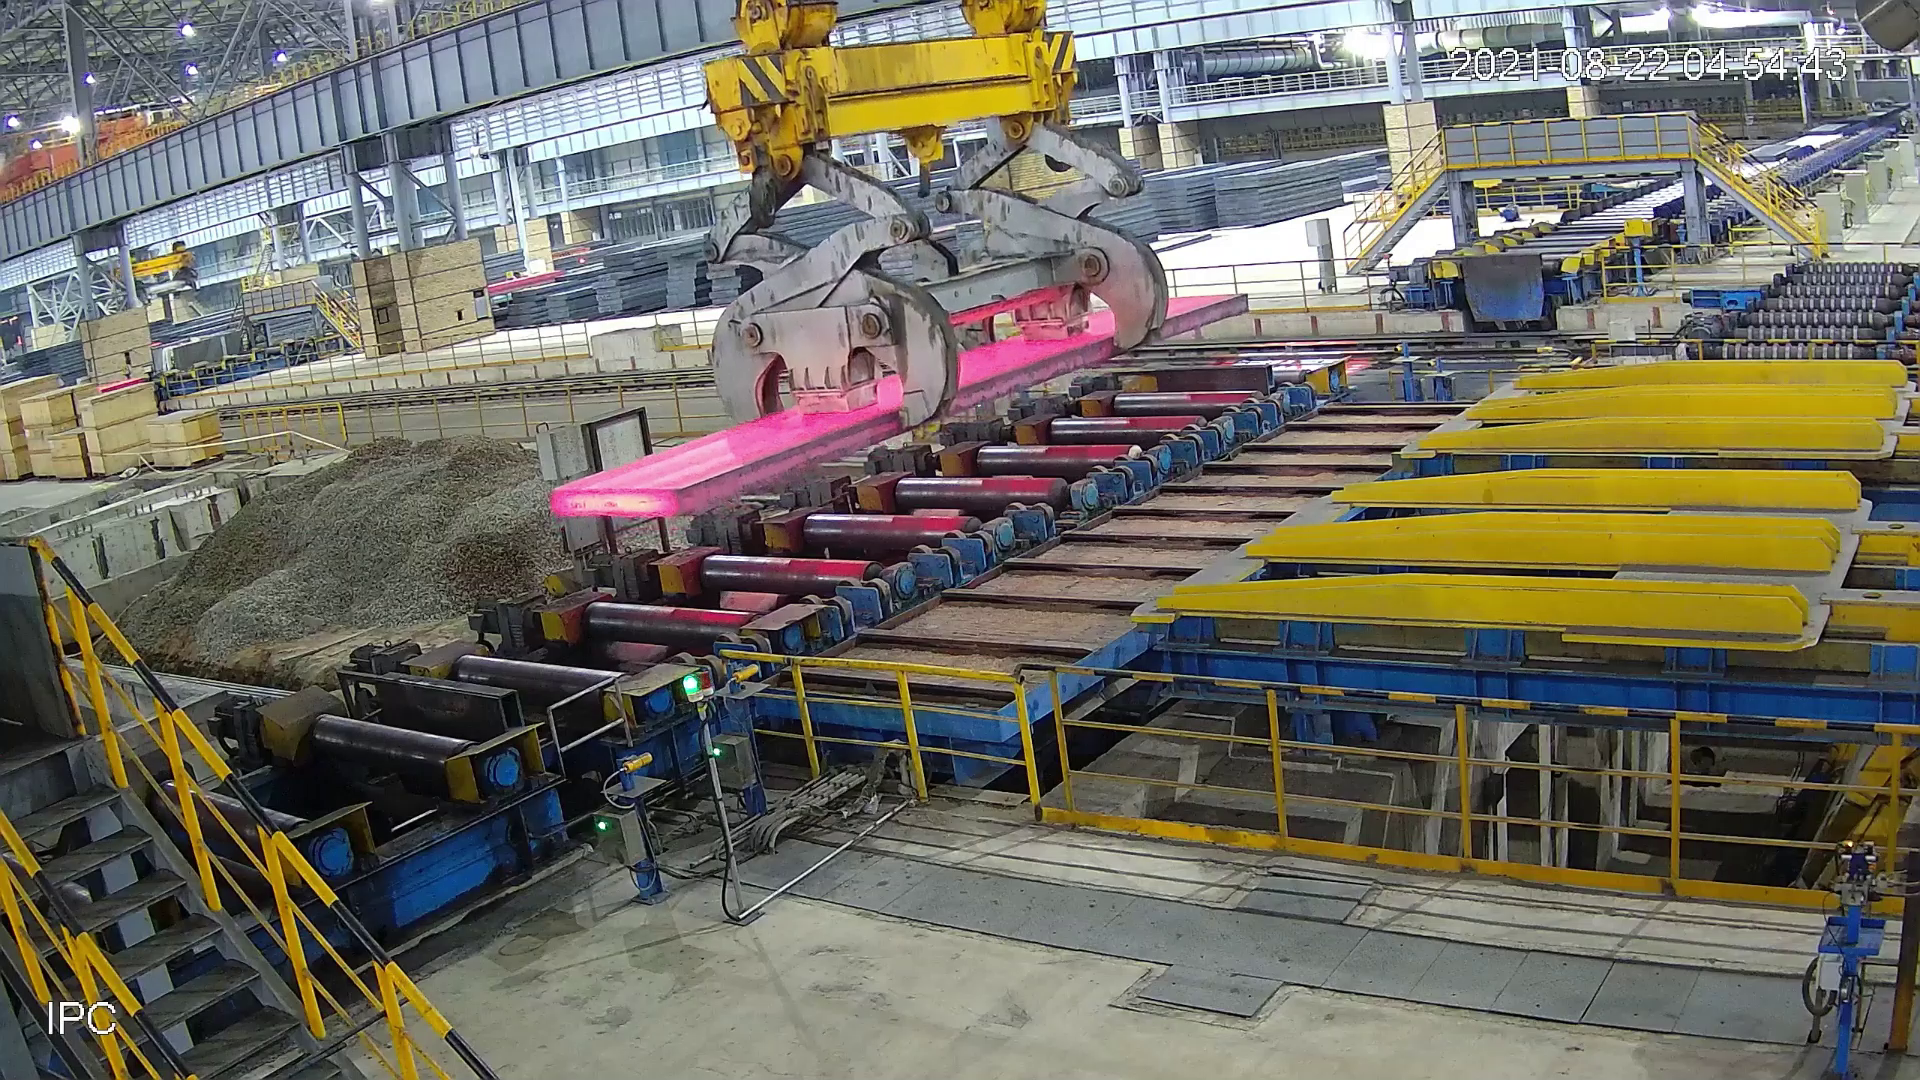craneandslab: (535, 1, 1269, 522)
